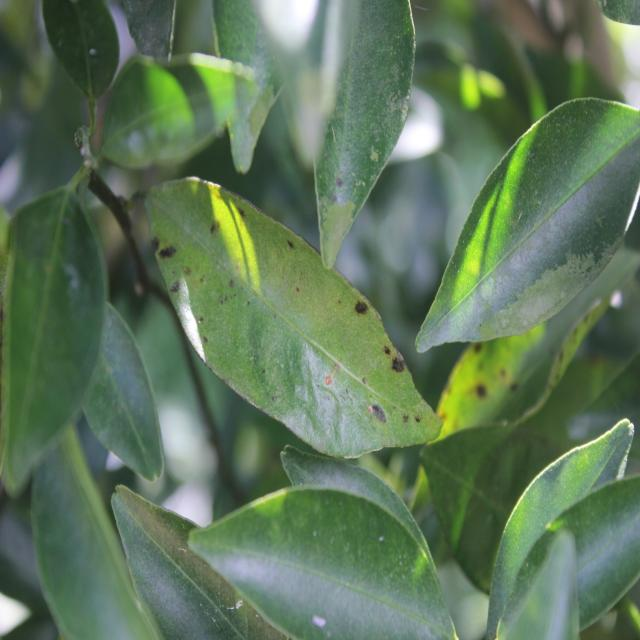melanose: (142, 172, 436, 460), (440, 227, 640, 452)
